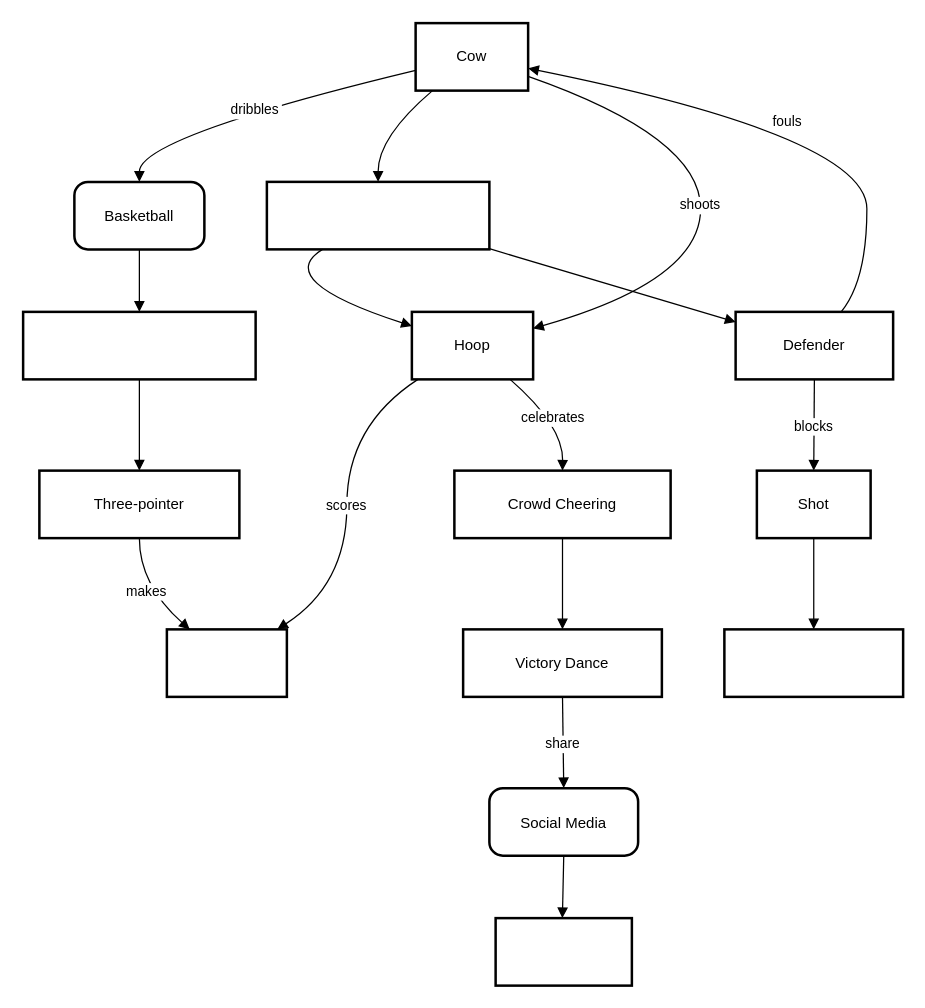
Some shapes in this 925 by 1008 pixel diagram are drawn without their labels. The box of each missing label's shape, as (x1, y1, x2, y2) in pixels:
Basketball Court: (265, 180, 490, 250)
Memes: (494, 916, 632, 986)
Missed Shot: (722, 628, 904, 698)
Pass to TeamMate: (21, 310, 256, 380)
Point: (165, 628, 288, 698)
